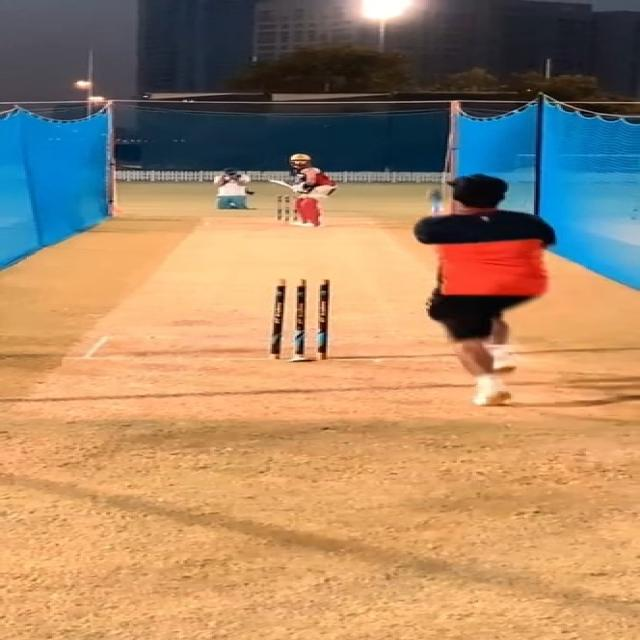batsman: (268, 152, 339, 228)
